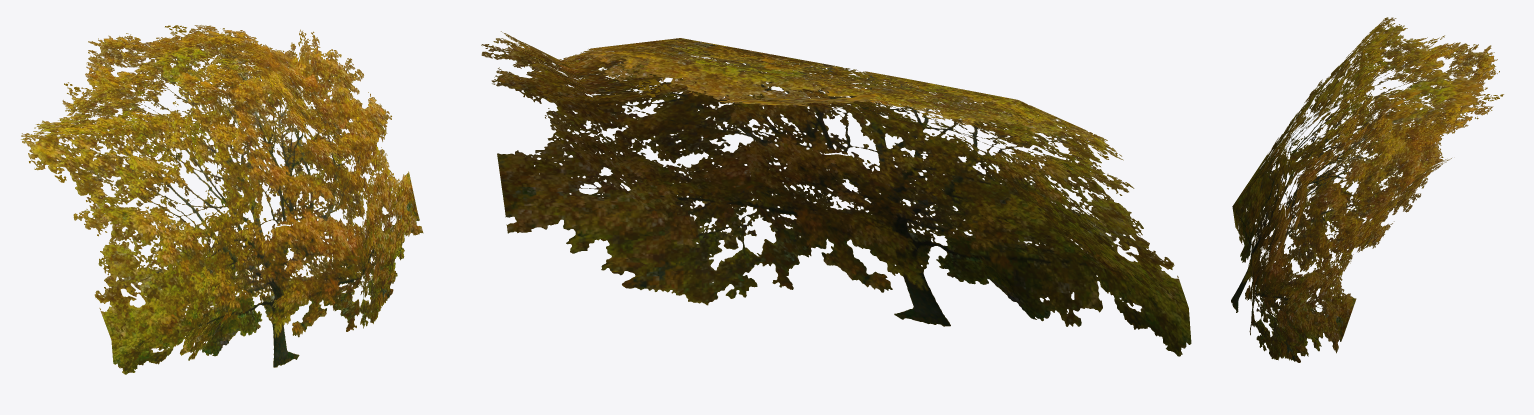
File: environment_Tree_pian_001_a.FBX
3 renders of one model, left to right at view 1: azimuth 30°, elevation 25°; view 2: azimuth 150°, elevation 25°; view 3: azimuth 270°, elevation 25°, orthographic. The views are drawn at different scales.
Visible parts, largest first — view 1: environment_Tree_pian_001_a; view 2: environment_Tree_pian_001_a; view 3: environment_Tree_pian_001_a.
Boxes of the visible parts, x1,y1,x2,y2 form: environment_Tree_pian_001_a: [21, 25, 423, 374]; environment_Tree_pian_001_a: [481, 31, 1191, 356]; environment_Tree_pian_001_a: [1231, 17, 1503, 362].
Bounding box in the file's own units: 394 × 237 × 269.
Materials: 1 (1 with a texture image).
